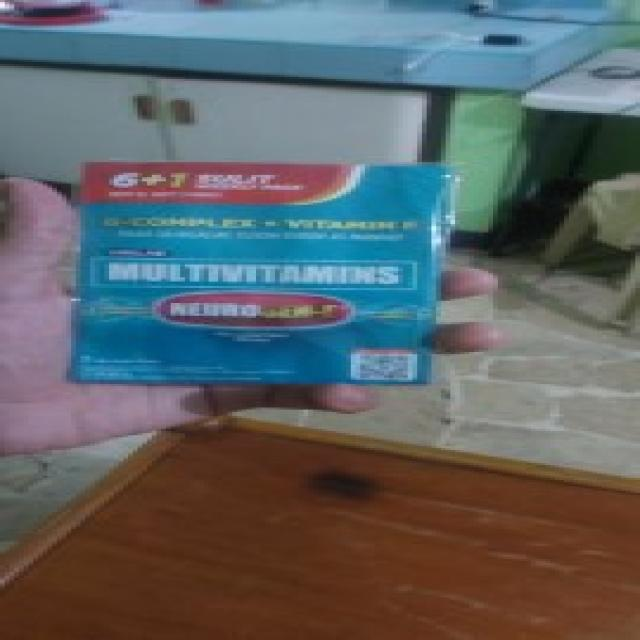Cacat: (71, 165, 453, 386)
